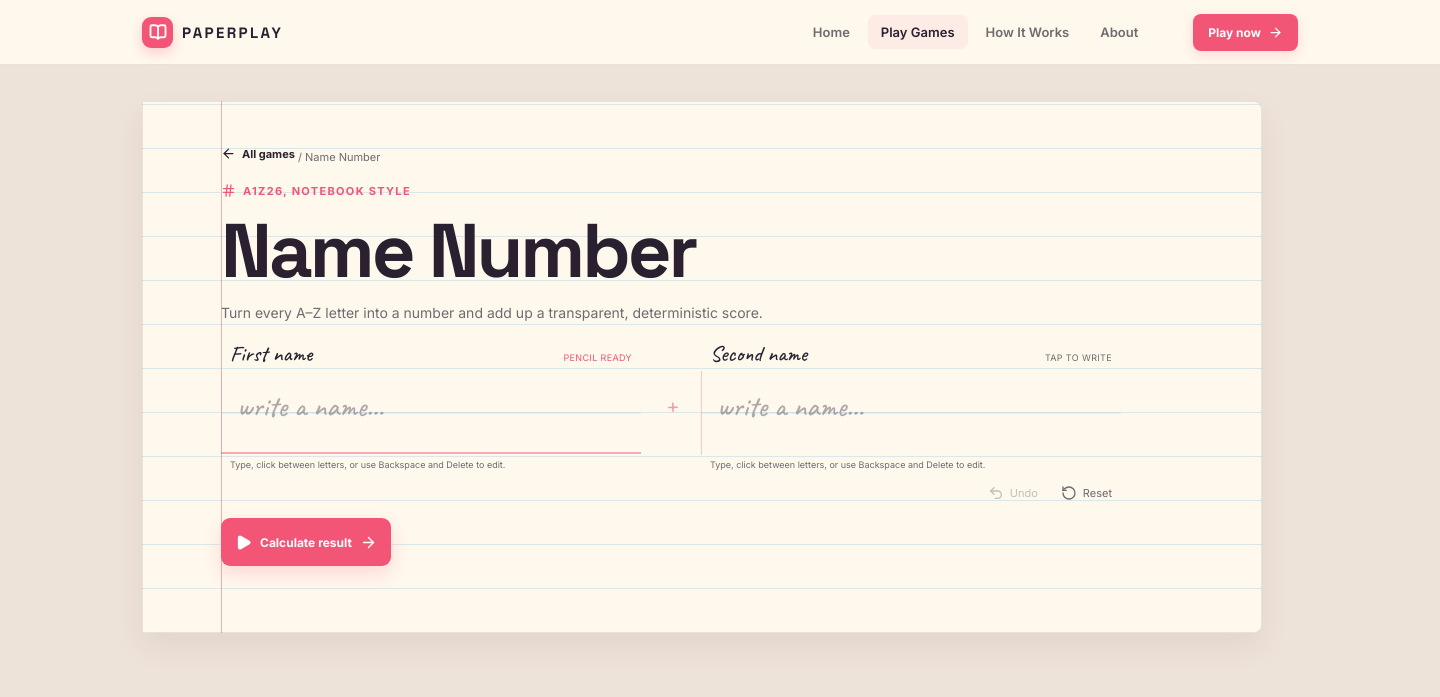
Test: PAPERPLAY user flow › opens and calculates /games/name-number
Expected: the heading "Name Number" is shown, [221, 210, 763, 292]
Type "Anna" into the text box labelled "First name" at point(431, 413), box [221, 371, 641, 455]
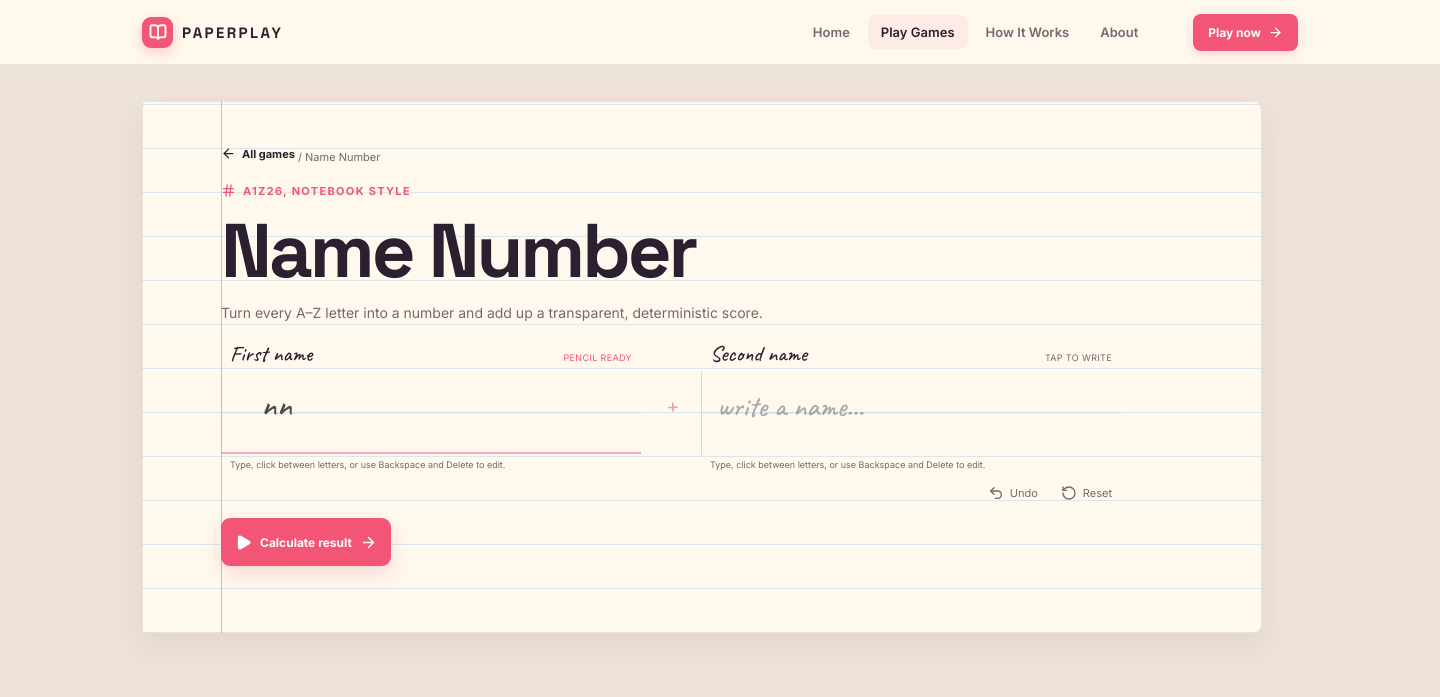
Type "Aman" into the text box labelled "Second name" at point(911, 413), box [701, 371, 1121, 455]
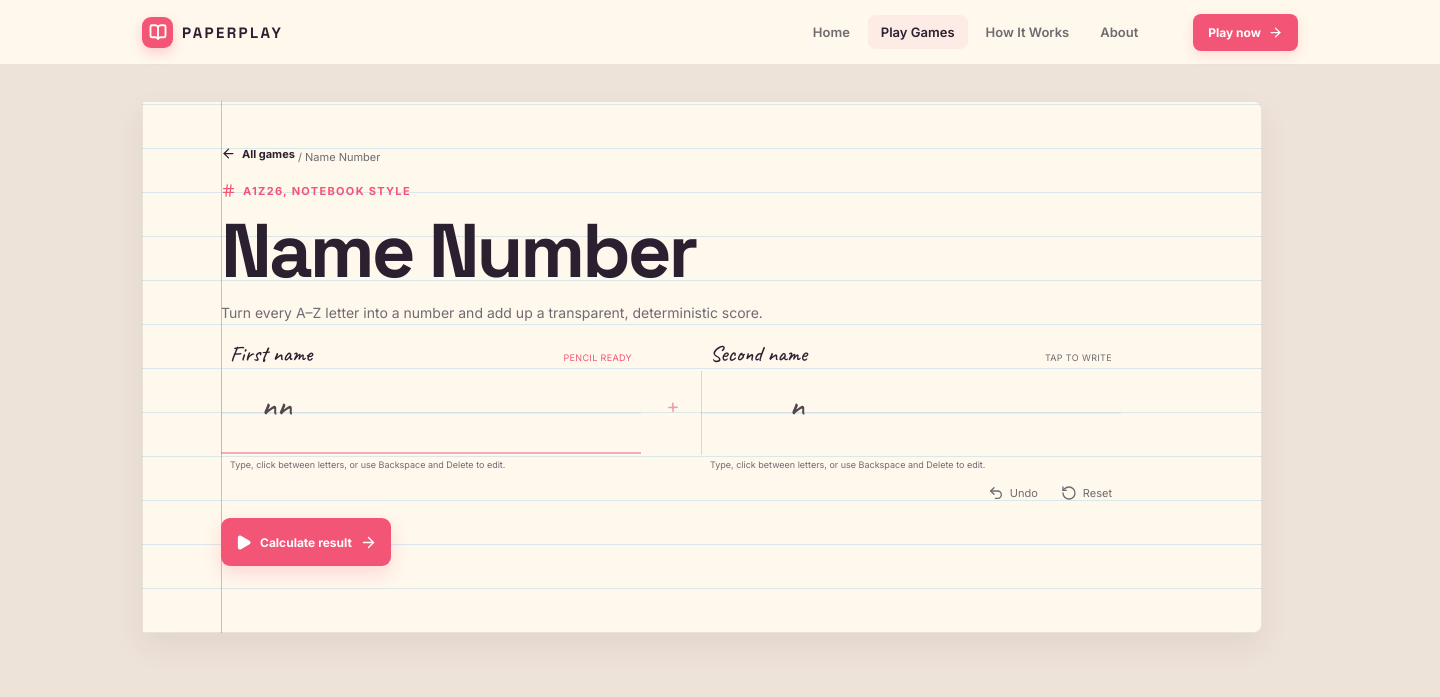
Click the button "Calculate result" at point(306, 542), box [221, 518, 391, 566]
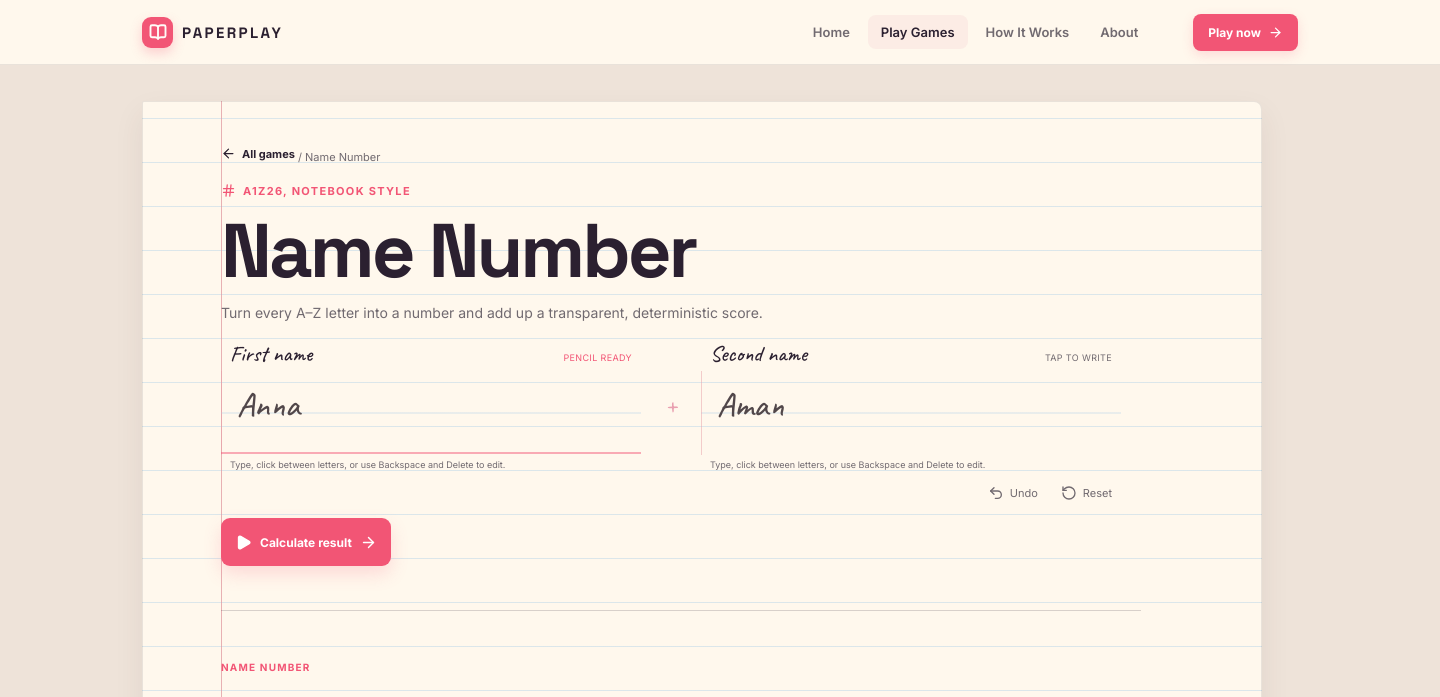
Result: the text "Name Number" is shown at [221, 661, 311, 673]
